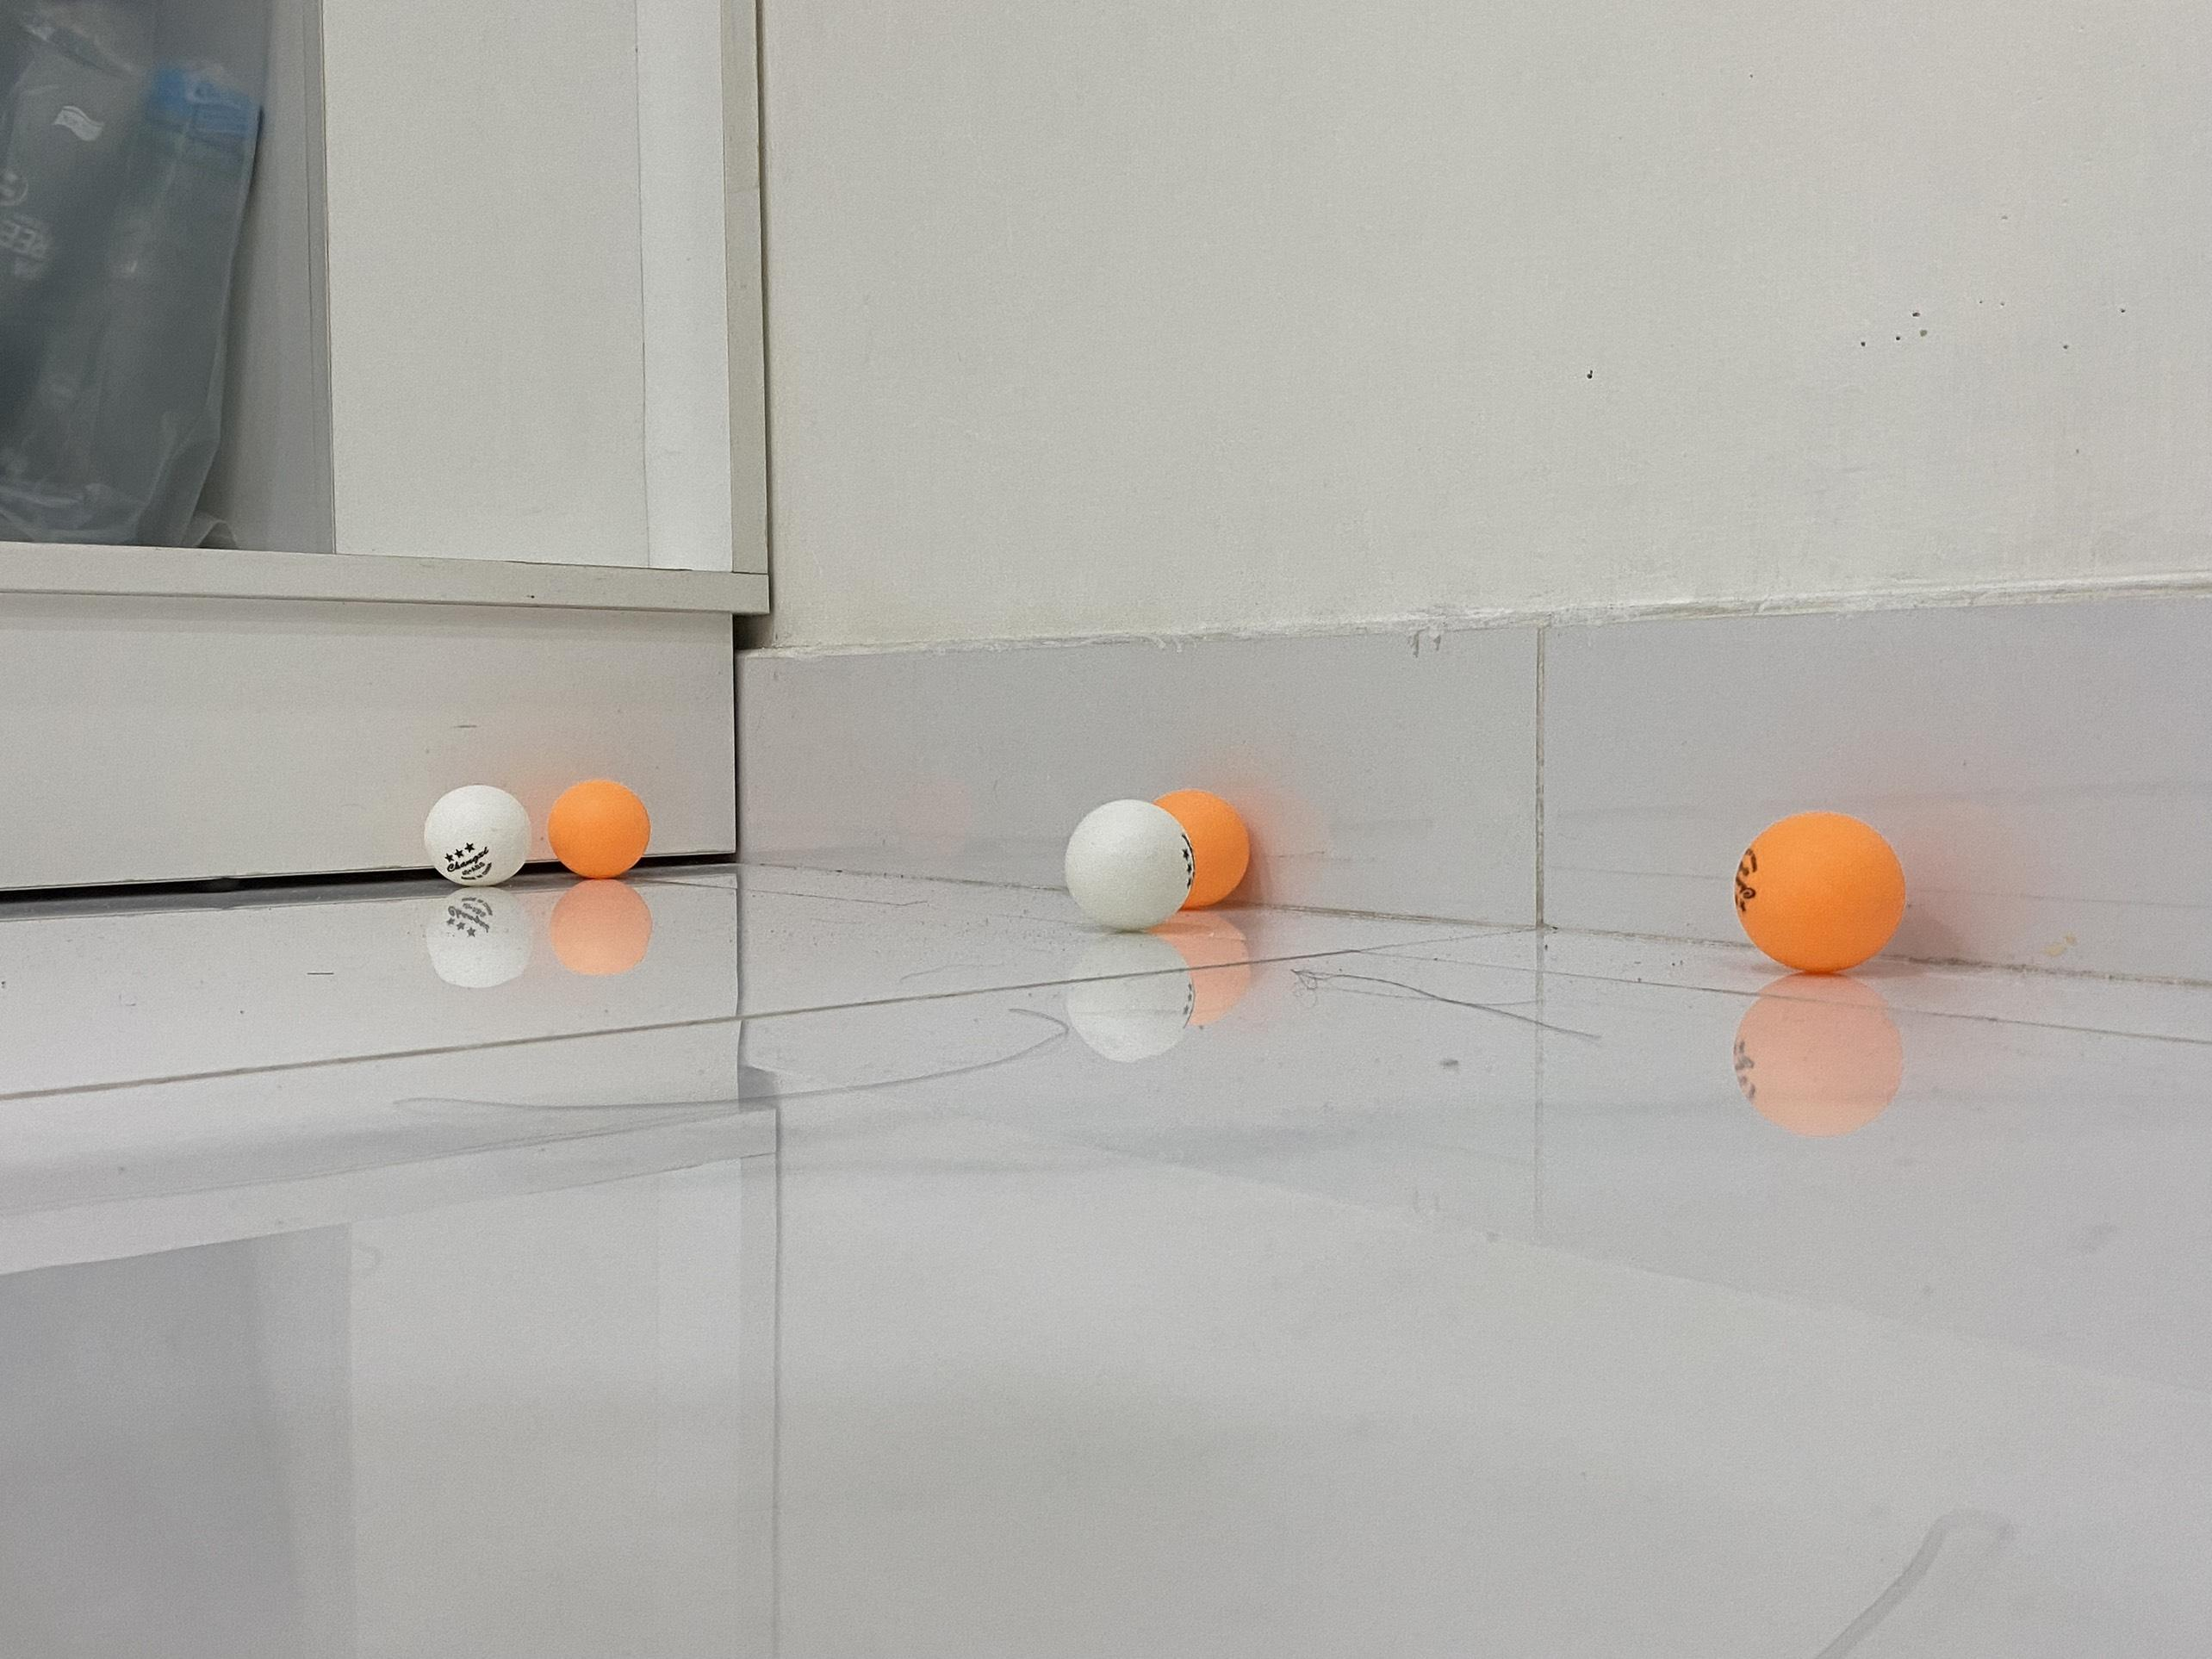oball: (1740, 810, 1907, 976), (1136, 786, 1258, 906), (549, 774, 657, 878)
